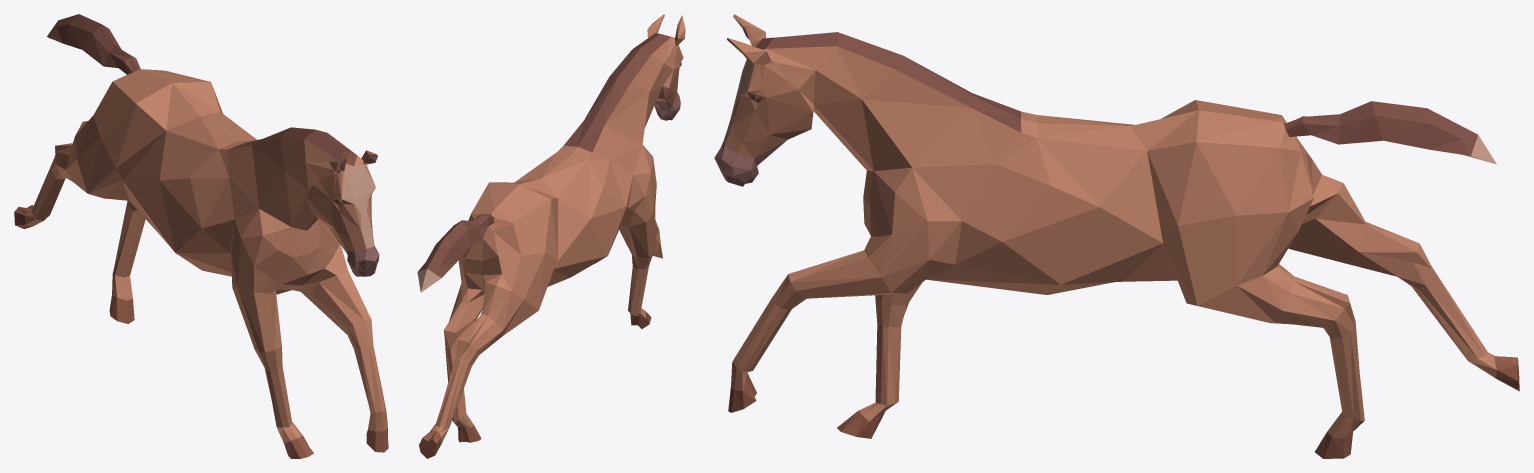
The model's file is Horse.glb.
3 views of the same model, side by side, from view 1: azimuth 30°, elevation 25°; view 2: azimuth 150°, elevation 25°; view 3: azimuth 270°, elevation 25° (orthographic). The views are drawn at different scales.
Visible parts, largest first — view 1: mesh_0; view 2: mesh_0; view 3: mesh_0.
Boxes of the visible parts, <box> form: mesh_0: <box>14,14,388,458</box>; mesh_0: <box>417,14,685,458</box>; mesh_0: <box>714,14,1519,458</box>.
Size of the model in its own units: 60.2 by 178 by 301.
